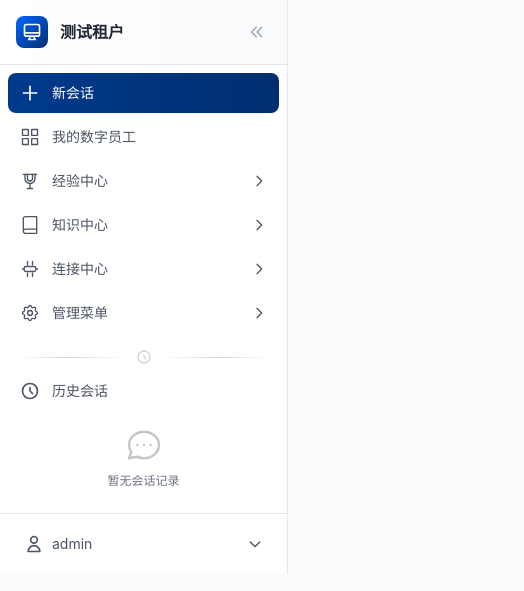
Test case: MenuSidebar - flyout 二级菜单 › 桌面 hover 经验中心：flyout 浮出含 3 个子项
Hover over the button "经验中心" at (80,180), box top-left (8, 161), bottom-right (279, 201)
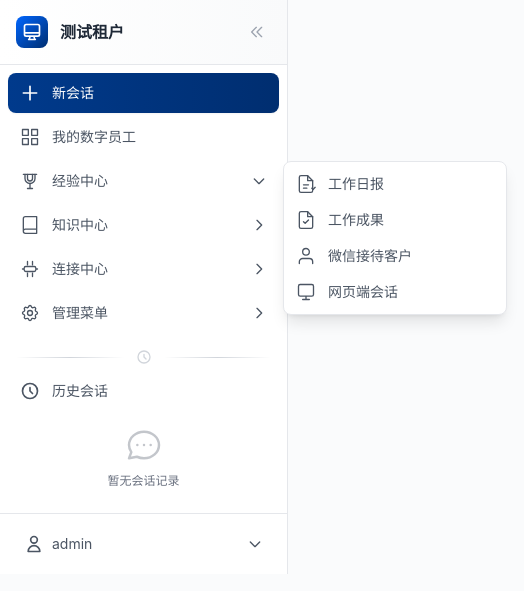
Check: the element showing "工作日报 工作成果 微信接待客户 网页端会话" is shown, box top-left (283, 161), bottom-right (507, 315)
